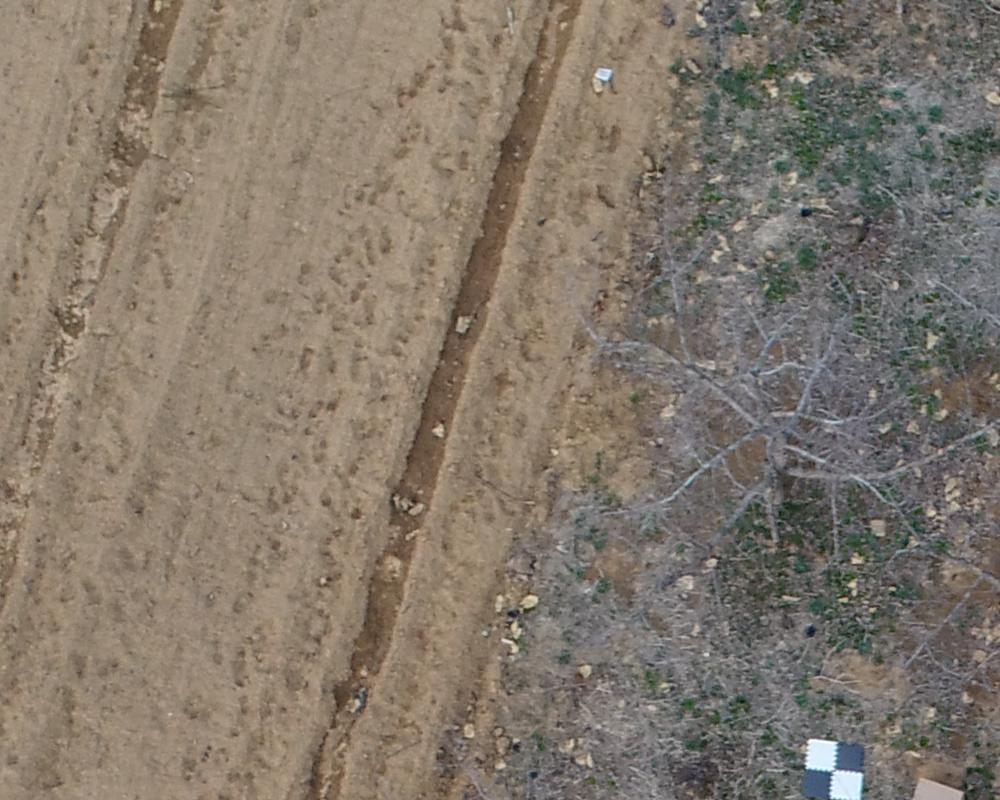apple: (607, 247, 990, 563)
